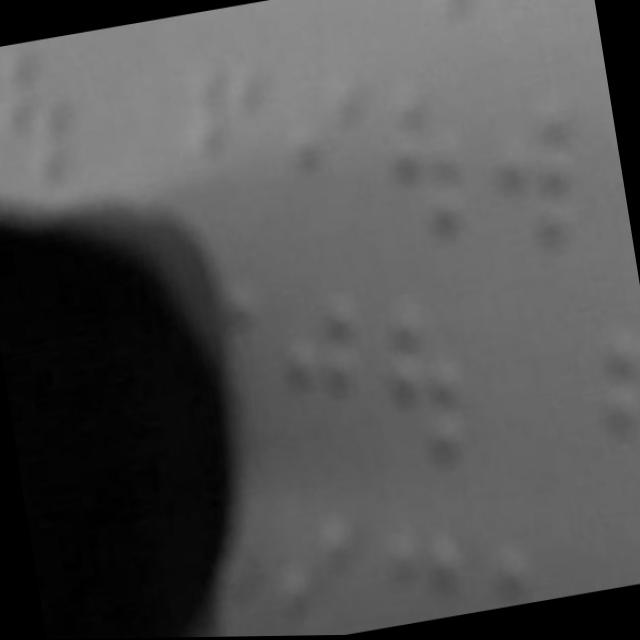braiile: (346, 273, 480, 487), (162, 30, 283, 250), (459, 73, 594, 270), (352, 52, 478, 260), (261, 61, 384, 264), (258, 280, 377, 483), (0, 35, 92, 202), (586, 312, 640, 506), (466, 528, 570, 614)
